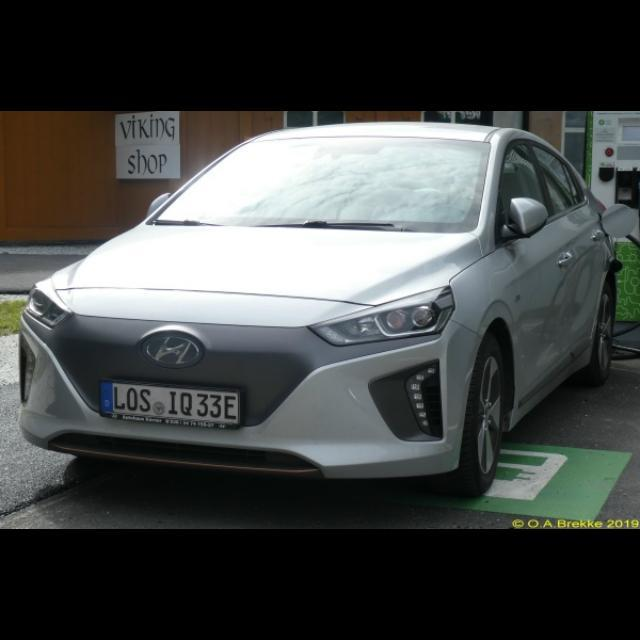license-plates: (100, 382, 241, 428)
